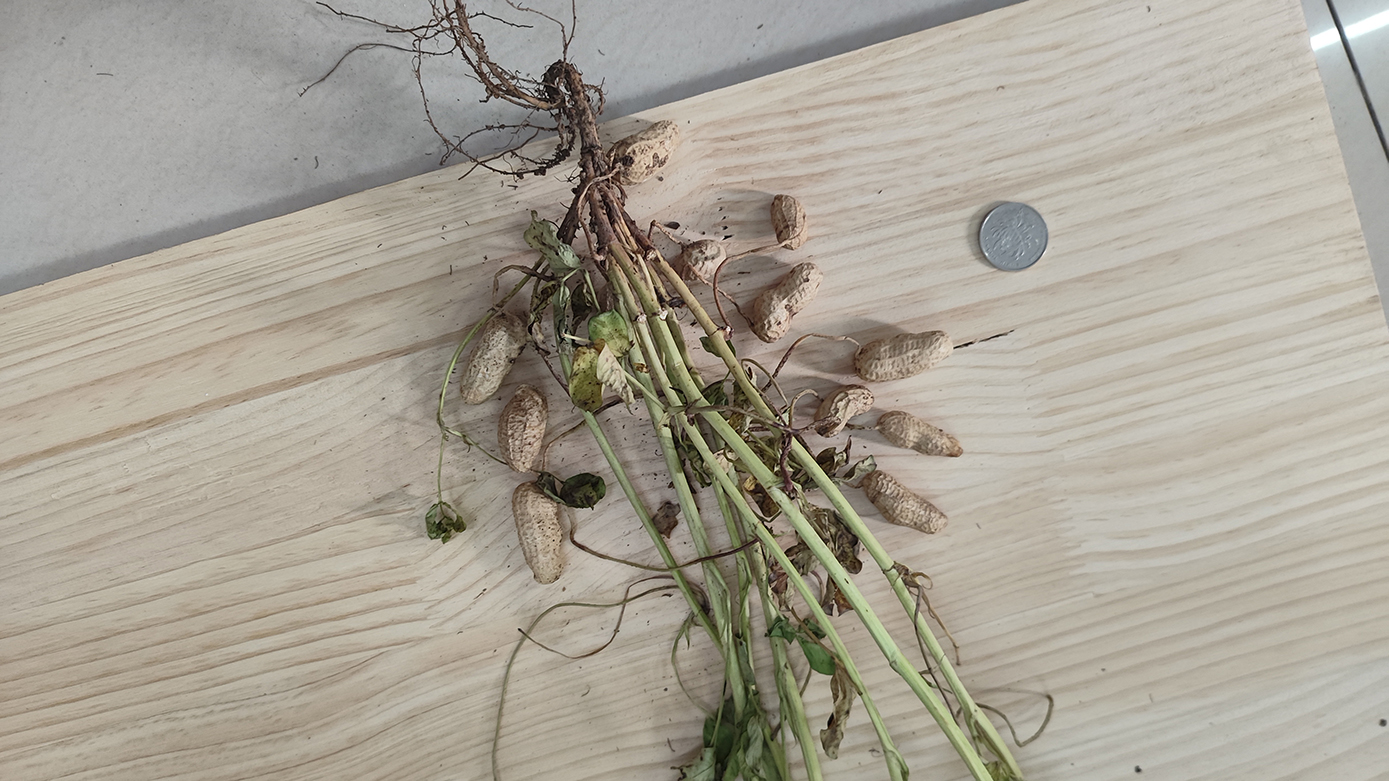h: (861, 468, 948, 535), (754, 263, 823, 343), (511, 483, 565, 584), (457, 315, 521, 400), (854, 329, 955, 381), (609, 122, 682, 186), (496, 388, 548, 474), (879, 410, 964, 459), (817, 387, 875, 433), (770, 194, 808, 251), (677, 240, 726, 283)
